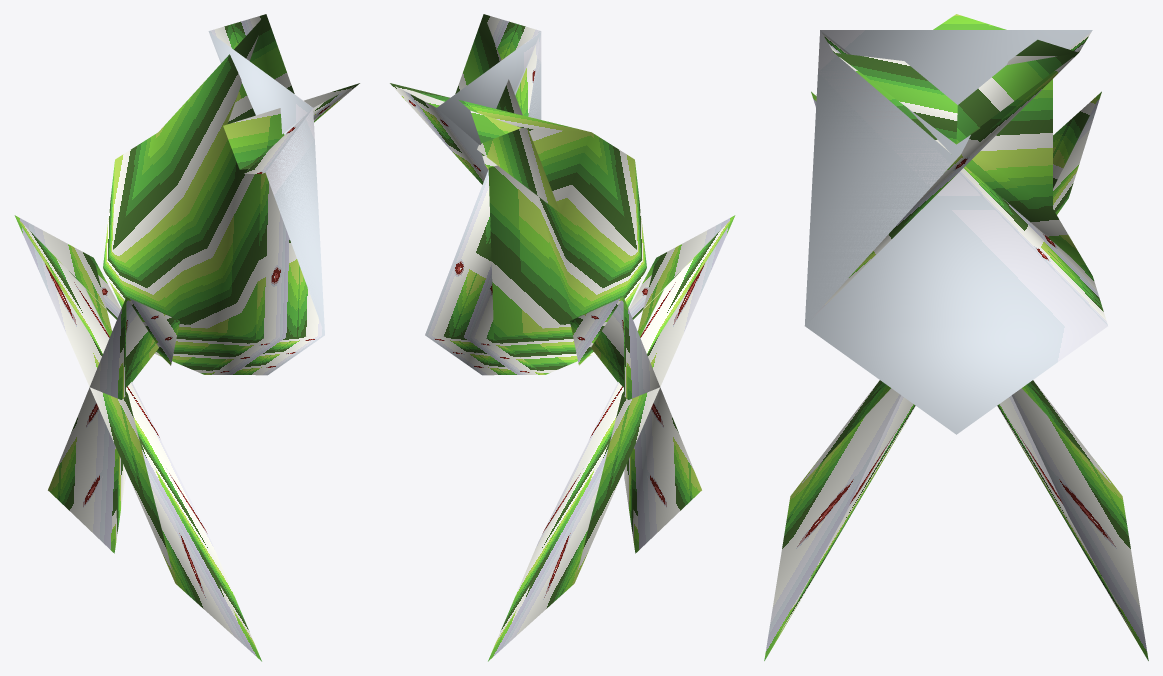
The model's file is 5063musi73.gltf.
3 views of the same model, side by side, from view 1: azimuth 30°, elevation 25°; view 2: azimuth 150°, elevation 25°; view 3: azimuth 270°, elevation 25° (orthographic). The views are drawn at different scales.
Visible parts, largest first — view 1: 5063musi73; view 2: 5063musi73; view 3: 5063musi73.
Boxes of the visible parts, x1,y1,x2,y2 form: 5063musi73: (14, 14, 359, 661); 5063musi73: (390, 14, 735, 661); 5063musi73: (764, 14, 1148, 660).
Size of the model in its own units: 0.2787 by 0.5796 by 0.2935.
Materials: 1 (1 with a texture image).
